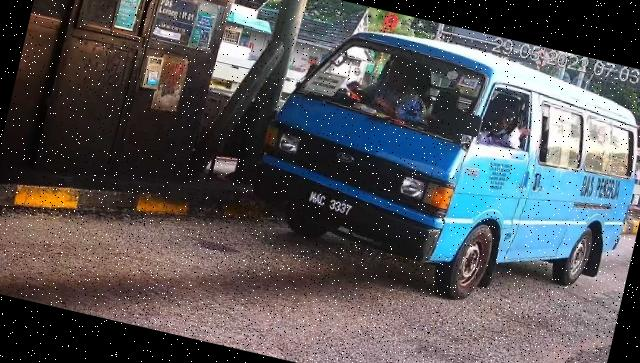License_Plate: (305, 187, 360, 224)
van: (239, 8, 640, 333)
